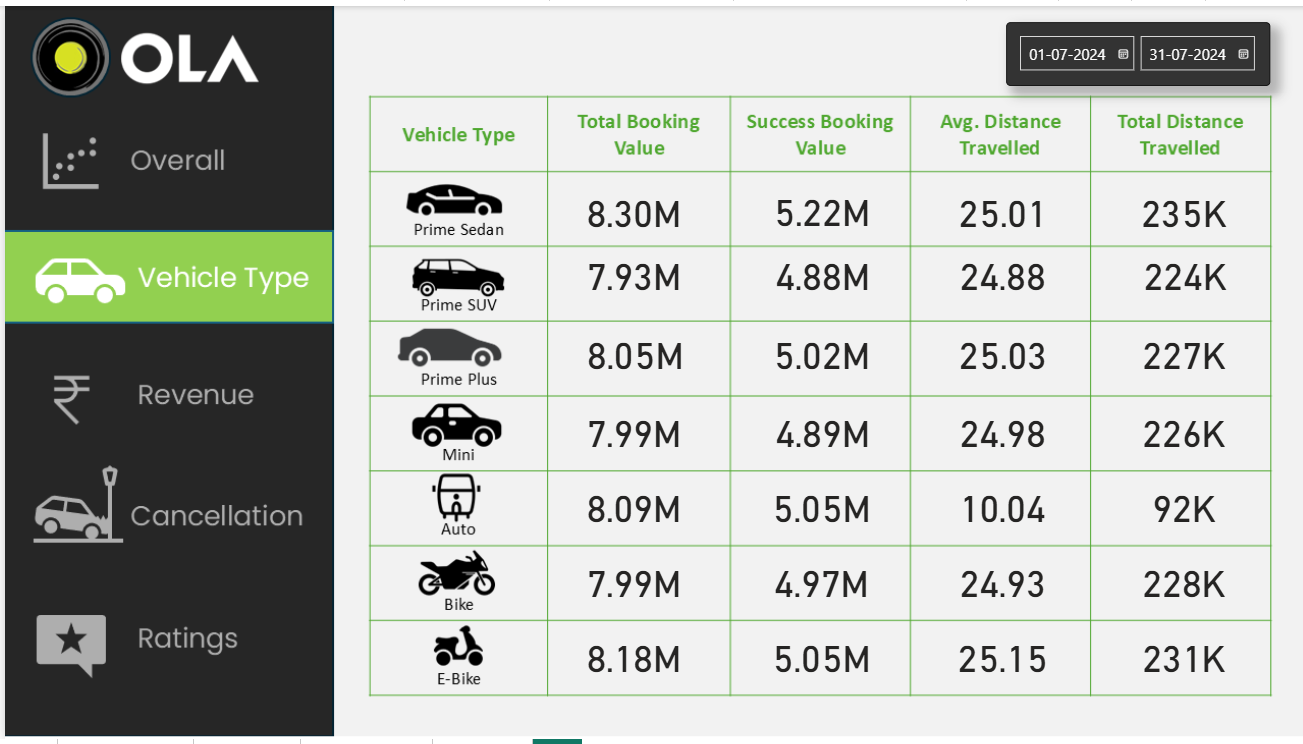

Layout of this report page (visuals, bound fields, positions):
{"tool":"powerbi","page":{"name":"Vehicle Type","canvas":[1280,720],"ordinal":1},"visuals":[{"type":"actionButton","box":[0,339.9,322.7,90.8],"z":0},{"type":"actionButton","box":[0,457.7,322.7,90.8],"z":1000},{"type":"actionButton","box":[0,579.1,322.7,90.8],"z":2000},{"type":"actionButton","box":[0,109.2,322.7,90.8],"z":3000},{"type":"card","fields":{"Values":["Sum(July.Booking_Value)"]},"box":[533.8,168.8,167.4,63.1],"z":4000},{"type":"card","fields":{"Values":["Sum(July.Booking_Value)"]},"box":[533.8,231.9,167.4,63.1],"z":5000},{"type":"card","fields":{"Values":["Sum(July.Booking_Value)"]},"box":[539.3,308.7,157.8,63.1],"z":6000},{"type":"card","fields":{"Values":["Sum(July.Booking_Value)"]},"box":[533.8,385.6,167.4,63.1],"z":7000},{"type":"card","fields":{"Values":["Sum(July.Booking_Value)"]},"box":[533.8,458.3,167.4,63.1],"z":8000},{"type":"card","fields":{"Values":["Sum(July.Booking_Value)"]},"box":[533.8,532.4,167.4,63.1],"z":9000},{"type":"card","fields":{"Values":["Sum(July.Booking_Value)"]},"box":[533.8,606.5,167.4,63.1],"z":10000},{"type":"card","fields":{"Values":["Sum(July.Booking_Value)"]},"box":[717.8,169.3,168.1,62.6],"z":11000},{"type":"card","fields":{"Values":["Sum(July.Booking_Value)"]},"box":[719,231.9,167.4,63.1],"z":12000},{"type":"card","fields":{"Values":["Sum(July.Booking_Value)"]},"box":[723.2,308.7,157.8,63.1],"z":13000},{"type":"card","fields":{"Values":["Sum(July.Booking_Value)"]},"box":[719,385.6,167.4,63.1],"z":14000},{"type":"card","fields":{"Values":["Sum(July.Booking_Value)"]},"box":[717.7,458.3,167.4,63.1],"z":15000},{"type":"card","fields":{"Values":["Sum(July.Booking_Value)"]},"box":[717.7,532.4,167.4,63.1],"z":16000},{"type":"card","fields":{"Values":["Sum(July.Booking_Value)"]},"box":[717.7,606.5,167.4,63.1],"z":17000},{"type":"card","fields":{"Values":["Avg(July.Ride_Distance)"]},"box":[896.1,168.8,167.4,63.1],"z":18000},{"type":"card","fields":{"Values":["Avg(July.Ride_Distance)"]},"box":[896.1,231.9,167.4,63.1],"z":19000},{"type":"card","fields":{"Values":["Avg(July.Ride_Distance)"]},"box":[900.2,308.7,157.8,63.1],"z":20000},{"type":"card","fields":{"Values":["Avg(July.Ride_Distance)"]},"box":[896.1,385.6,167.4,63.1],"z":21000},{"type":"card","fields":{"Values":["Avg(July.Ride_Distance)"]},"box":[896.1,458.3,167.4,63.1],"z":22000},{"type":"card","fields":{"Values":["Avg(July.Ride_Distance)"]},"box":[896.1,532.4,167.4,63.1],"z":23000},{"type":"card","fields":{"Values":["Avg(July.Ride_Distance)"]},"box":[896.1,606.5,167.4,63.1],"z":24000},{"type":"card","fields":{"Values":["Sum(July.Ride_Distance)"]},"box":[1073.1,168.8,167.4,63.1],"z":25000},{"type":"card","fields":{"Values":["Sum(July.Ride_Distance)"]},"box":[1074.4,231.9,167.4,63.1],"z":26000},{"type":"card","fields":{"Values":["Sum(July.Ride_Distance)"]},"box":[1078.6,308.7,157.8,63.1],"z":27000},{"type":"card","fields":{"Values":["Sum(July.Ride_Distance)"]},"box":[1073.1,385.6,167.4,63.1],"z":28000},{"type":"card","fields":{"Values":["Sum(July.Ride_Distance)"]},"box":[1073.1,458.3,167.4,63.1],"z":29000},{"type":"card","fields":{"Values":["Sum(July.Ride_Distance)"]},"box":[1073.1,532.4,167.4,63.1],"z":30000},{"type":"card","fields":{"Values":["Sum(July.Ride_Distance)"]},"box":[1073.1,606.5,167.4,63.1],"z":31000},{"type":"slicer","title":"DATE","fields":{"Values":["July.Date"]},"box":[982.8,16,258.9,62.6],"z":32000}]}

Visuals, with their boxes on the page's 1280x720 design canvas (x1, y1, x2, y2). These are canvas units, not pixel positions in the 1303x744 screenshot, which may show the page scaled, cropped or inside an application window:
actionButton: (0,340,323,431)
actionButton: (0,458,323,548)
actionButton: (0,579,323,670)
actionButton: (0,109,323,200)
card - Sum(July.Booking_Value): (534,169,701,232)
card - Sum(July.Booking_Value): (534,232,701,295)
card - Sum(July.Booking_Value): (539,309,697,372)
card - Sum(July.Booking_Value): (534,386,701,449)
card - Sum(July.Booking_Value): (534,458,701,521)
card - Sum(July.Booking_Value): (534,532,701,596)
card - Sum(July.Booking_Value): (534,606,701,670)
card - Sum(July.Booking_Value): (718,169,886,232)
card - Sum(July.Booking_Value): (719,232,886,295)
card - Sum(July.Booking_Value): (723,309,881,372)
card - Sum(July.Booking_Value): (719,386,886,449)
card - Sum(July.Booking_Value): (718,458,885,521)
card - Sum(July.Booking_Value): (718,532,885,596)
card - Sum(July.Booking_Value): (718,606,885,670)
card - Avg(July.Ride_Distance): (896,169,1064,232)
card - Avg(July.Ride_Distance): (896,232,1064,295)
card - Avg(July.Ride_Distance): (900,309,1058,372)
card - Avg(July.Ride_Distance): (896,386,1064,449)
card - Avg(July.Ride_Distance): (896,458,1064,521)
card - Avg(July.Ride_Distance): (896,532,1064,596)
card - Avg(July.Ride_Distance): (896,606,1064,670)
card - Sum(July.Ride_Distance): (1073,169,1240,232)
card - Sum(July.Ride_Distance): (1074,232,1242,295)
card - Sum(July.Ride_Distance): (1079,309,1236,372)
card - Sum(July.Ride_Distance): (1073,386,1240,449)
card - Sum(July.Ride_Distance): (1073,458,1240,521)
card - Sum(July.Ride_Distance): (1073,532,1240,596)
card - Sum(July.Ride_Distance): (1073,606,1240,670)
"DATE" slicer: (983,16,1242,79)
